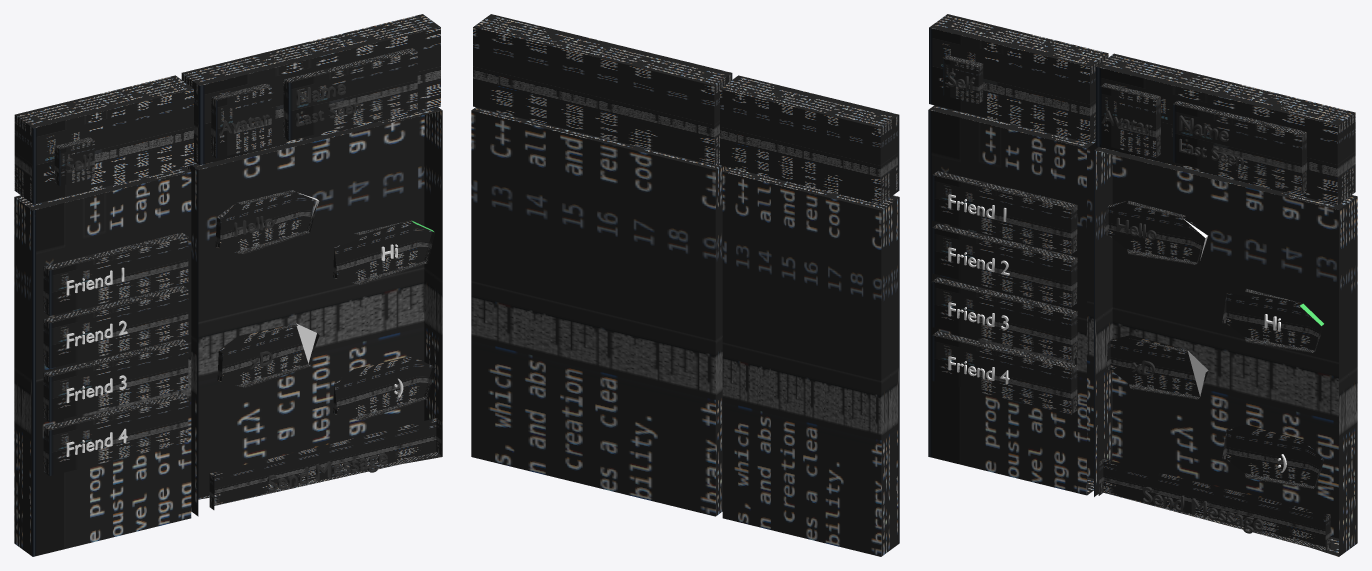
The picture shows the model from 3 angles, left to right: view 1: azimuth 30°, elevation 25°; view 2: azimuth 150°, elevation 25°; view 3: azimuth 330°, elevation 25°; orthographic projection.
Parts seen in each view (by area): view 1: back, Text.012; view 2: back; view 3: back, Text.012, back.002.
Boxes of the visible parts, x1,y1,x2,y2 form: back: [14, 14, 442, 556]; Text.012: [267, 453, 387, 492]; back: [471, 14, 899, 556]; back: [928, 14, 1357, 556]; Text.012: [1143, 487, 1263, 533]; back.002: [1184, 219, 1323, 396].
Bounding box in the file's own units: 6.89 × 6.91 × 0.8607.
Materials: 4 (1 with a texture image).
